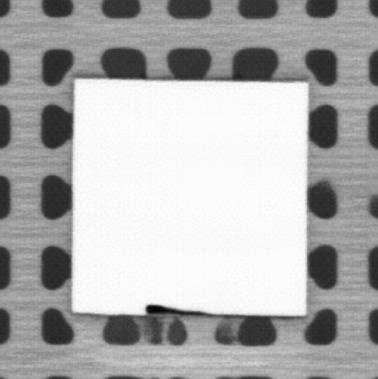DIE_BROKEN: (144, 303, 212, 317)
